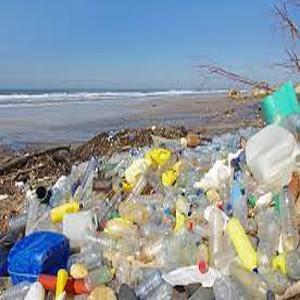Plastic: (231, 260, 278, 300), (279, 183, 300, 253), (136, 266, 161, 297)
